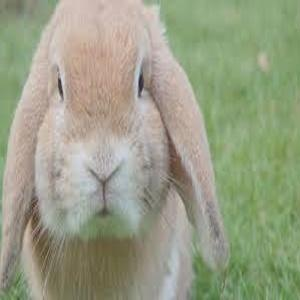rabbit: (0, 0, 230, 300), (0, 0, 227, 299)
